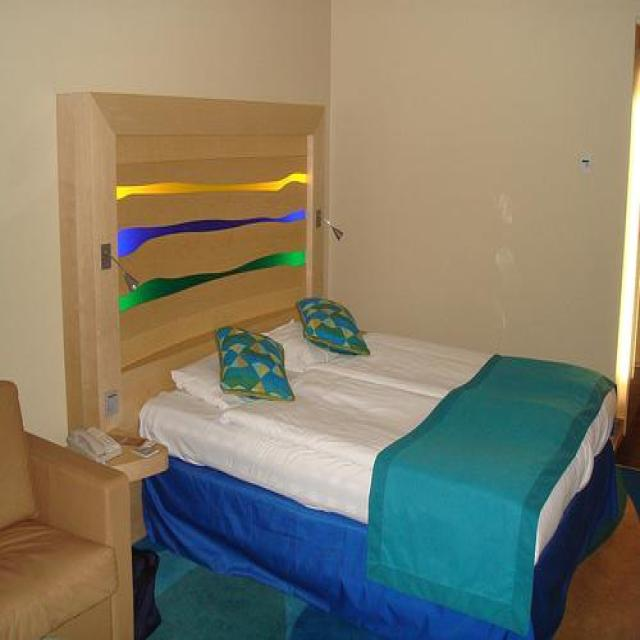bed: (137, 317, 625, 638)
sofa: (0, 378, 134, 638)
